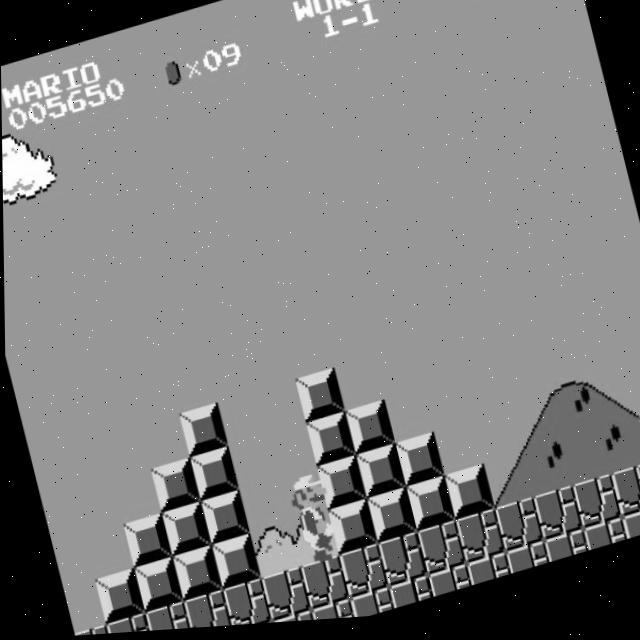17- undestructible_block: (414, 524, 465, 581), (453, 513, 504, 570), (492, 502, 543, 559), (531, 491, 582, 548), (570, 480, 621, 537), (375, 536, 426, 592), (259, 569, 309, 625), (298, 558, 348, 614), (337, 547, 387, 603), (220, 579, 270, 629), (181, 590, 231, 631), (609, 469, 640, 525), (142, 601, 192, 633), (580, 525, 626, 559), (386, 580, 431, 614), (425, 569, 470, 603), (464, 558, 509, 592), (503, 547, 548, 581), (542, 536, 587, 570), (347, 591, 392, 622), (103, 612, 153, 635), (308, 602, 353, 624), (619, 514, 640, 548), (71, 623, 113, 637), (269, 613, 314, 626)
4- fire_mario: (279, 468, 343, 573)
9- hard_block: (131, 558, 182, 614), (148, 459, 199, 515), (159, 503, 210, 559), (170, 547, 221, 603), (198, 492, 249, 548), (209, 536, 260, 592), (315, 459, 366, 515), (354, 448, 405, 504), (364, 492, 415, 548), (403, 481, 454, 537), (442, 470, 493, 526), (187, 448, 238, 503), (304, 415, 355, 470), (343, 404, 394, 459), (93, 569, 143, 625), (121, 514, 171, 570), (177, 404, 227, 460), (294, 371, 344, 427), (326, 503, 376, 559), (393, 437, 443, 493)
